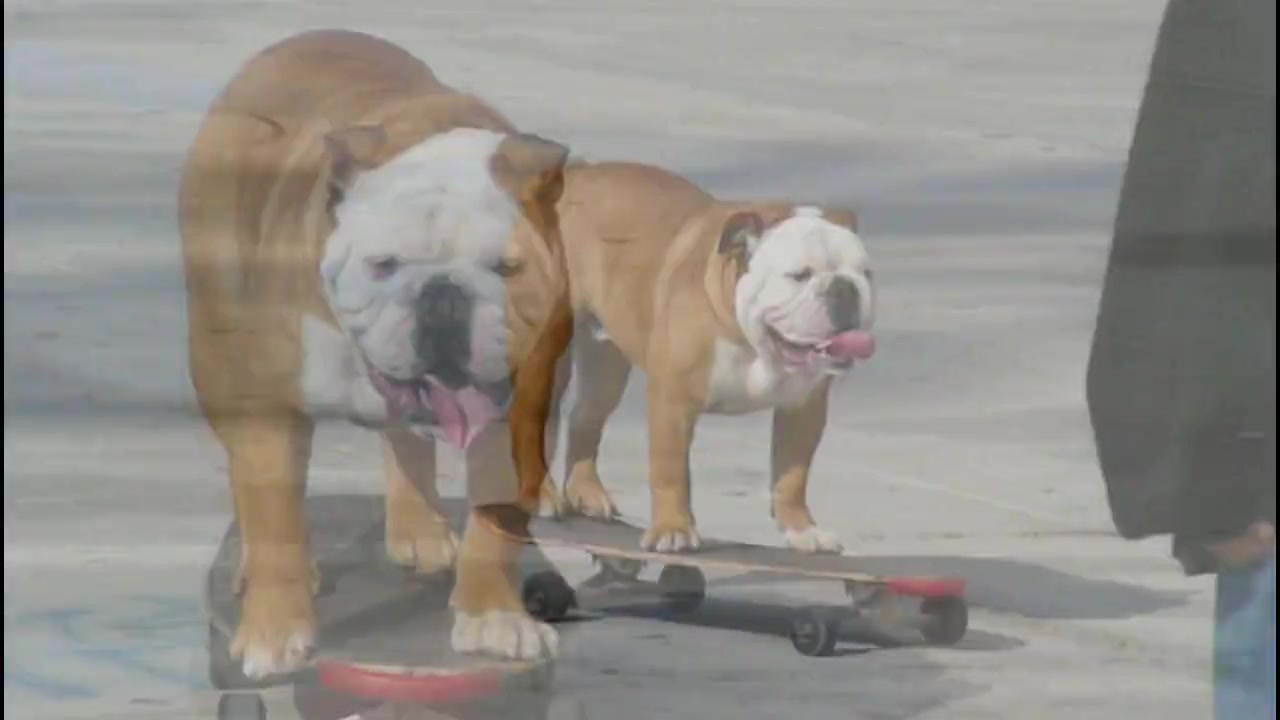dog: (572, 152, 884, 556)
